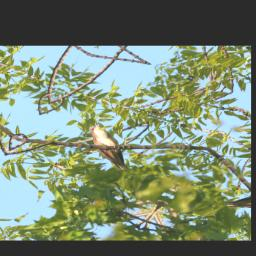Cuckoo: (69, 122, 153, 173)
